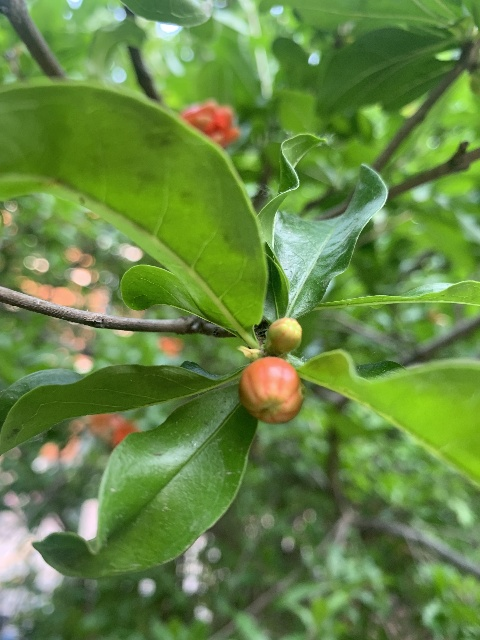bud: (238, 356, 303, 424), (264, 316, 302, 355)
flower: (180, 101, 240, 149)
